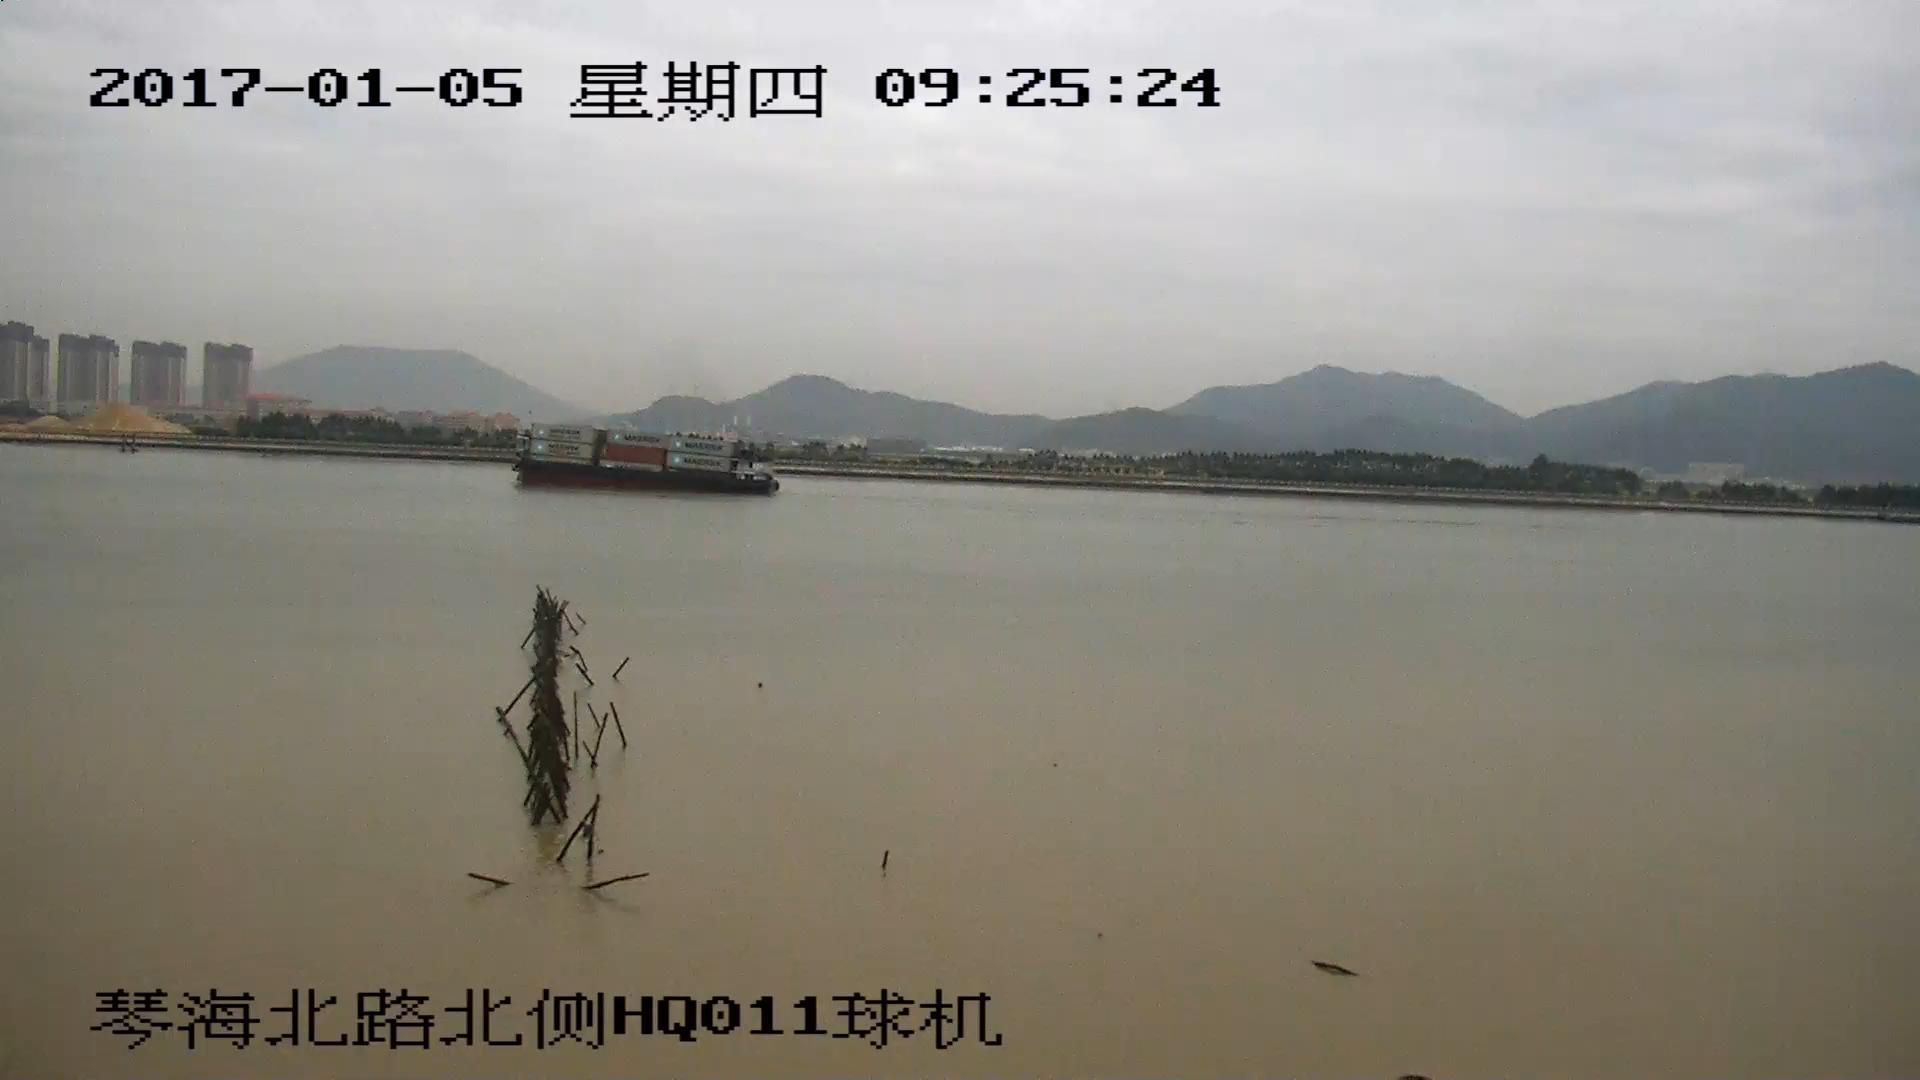Ship: (510, 427, 775, 495)
